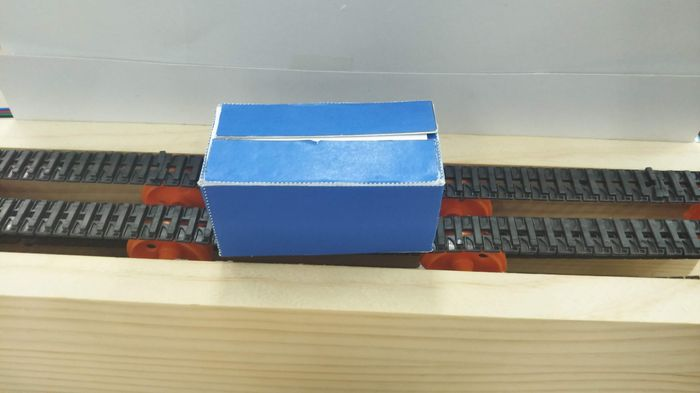box3: (192, 96, 444, 261)
